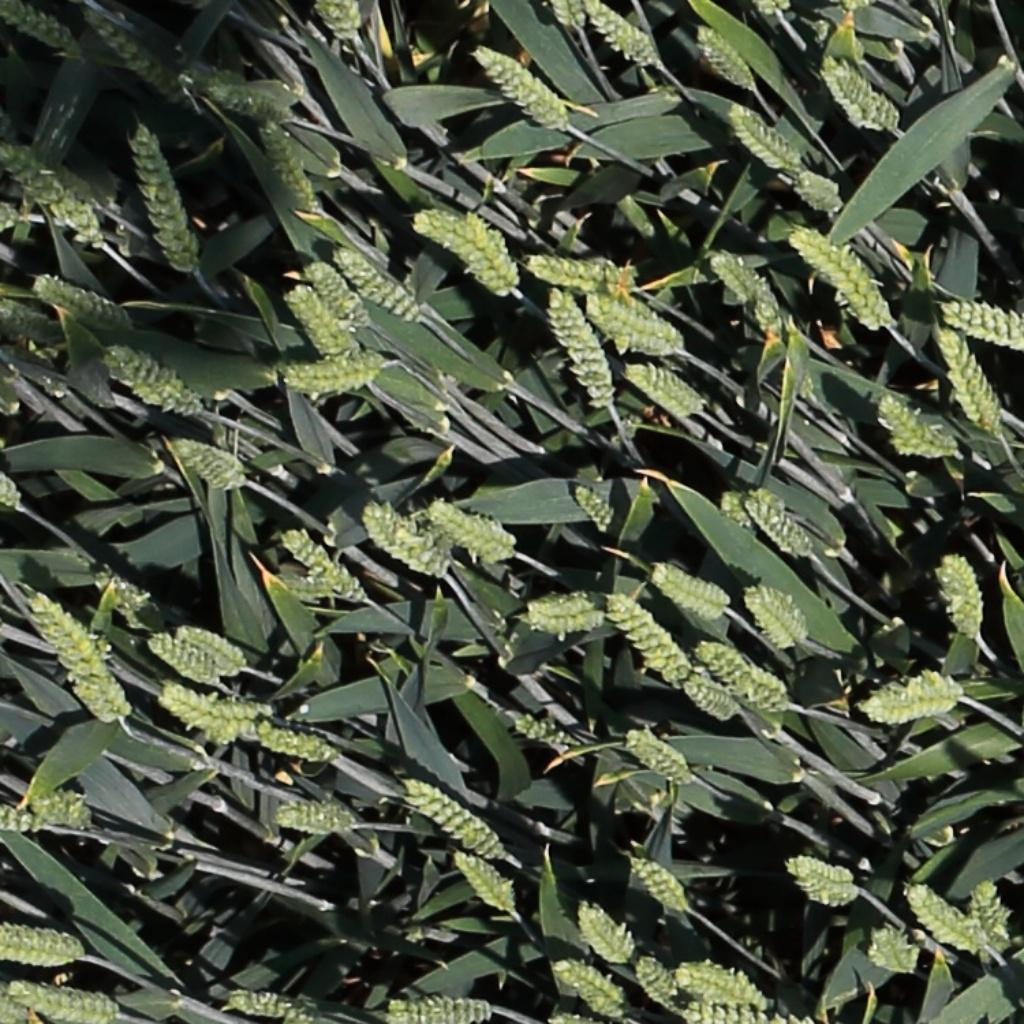0-0: (19, 583, 134, 725), (572, 901, 686, 1016), (126, 117, 202, 282), (1, 143, 108, 251), (790, 225, 895, 335), (464, 41, 575, 136), (416, 204, 524, 299), (172, 46, 301, 123), (544, 281, 619, 410), (82, 8, 179, 103), (933, 320, 1008, 441), (400, 780, 505, 861), (104, 343, 208, 420), (603, 593, 689, 686), (586, 284, 687, 361), (334, 243, 426, 323), (693, 644, 796, 715), (684, 15, 767, 101), (357, 507, 452, 580), (706, 253, 784, 340), (260, 125, 329, 221), (281, 528, 368, 604), (906, 884, 993, 959), (826, 58, 903, 138), (32, 269, 133, 329), (875, 393, 963, 460), (521, 243, 629, 296), (155, 689, 258, 744), (280, 349, 393, 399), (743, 487, 818, 562), (860, 670, 966, 723), (670, 955, 776, 1008), (282, 285, 364, 353), (726, 103, 801, 174), (425, 503, 520, 558), (302, 261, 376, 331), (581, 1, 658, 68), (549, 955, 630, 1018), (9, 981, 125, 1024), (627, 364, 710, 420), (781, 853, 861, 910), (648, 566, 734, 619), (167, 439, 251, 493), (937, 550, 985, 644), (745, 585, 814, 649), (449, 851, 519, 914), (387, 986, 500, 1024), (172, 623, 253, 676), (940, 301, 1024, 352), (1, 1, 77, 57), (623, 853, 689, 917), (94, 569, 161, 632), (147, 635, 225, 687), (222, 988, 333, 1024), (1, 922, 88, 967), (622, 731, 692, 786), (270, 796, 360, 834), (525, 590, 606, 630), (251, 726, 335, 761), (973, 880, 1011, 956), (29, 786, 95, 829), (866, 928, 920, 976), (505, 712, 570, 749), (682, 678, 736, 720), (792, 168, 842, 212), (316, 0, 360, 46), (575, 485, 618, 531), (2, 802, 49, 840), (1, 983, 39, 1023), (550, 0, 582, 39), (1, 470, 28, 515), (0, 197, 27, 229)
